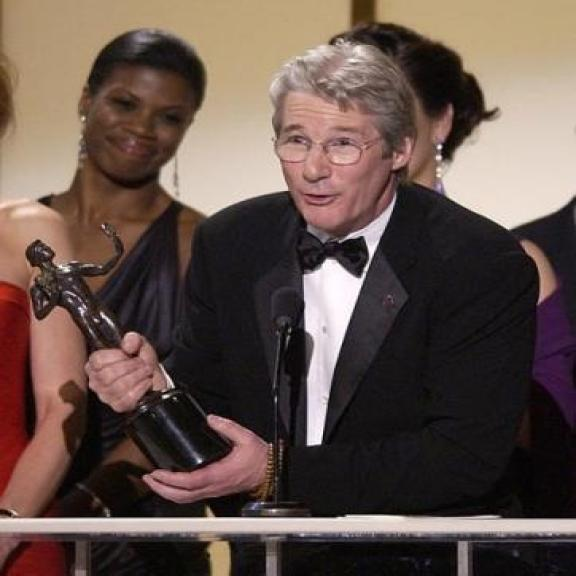face: (281, 99, 416, 235), (77, 63, 200, 186)
